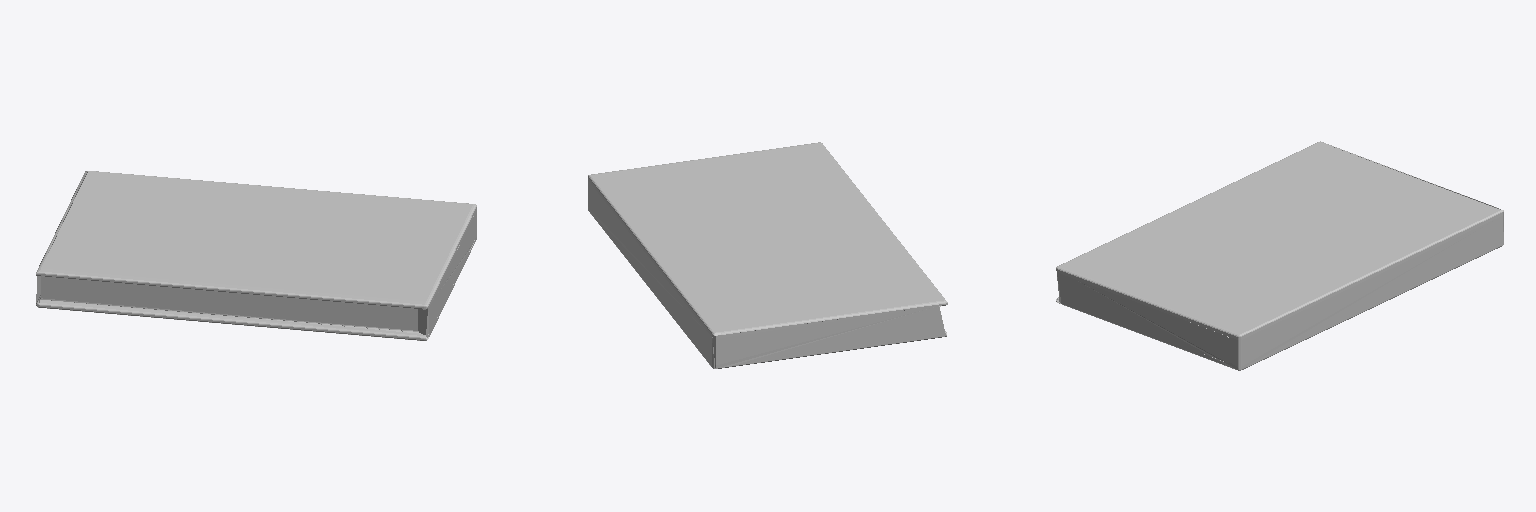
File: Book2.obj
The picture shows the model from 3 angles: view 1: azimuth 30°, elevation 25°; view 2: azimuth 150°, elevation 25°; view 3: azimuth 270°, elevation 25°; orthographic projection.
Visible parts, largest first — view 1: Plane_Plane.002; view 2: Plane_Plane.002; view 3: Plane_Plane.002.
Boxes of the visible parts, box(x1,y1,x2,y2) form: Plane_Plane.002: box(36, 171, 476, 340); Plane_Plane.002: box(588, 142, 947, 368); Plane_Plane.002: box(1056, 141, 1503, 370).
Size of the model in its own units: 16.19 by 1.4 by 15.7.